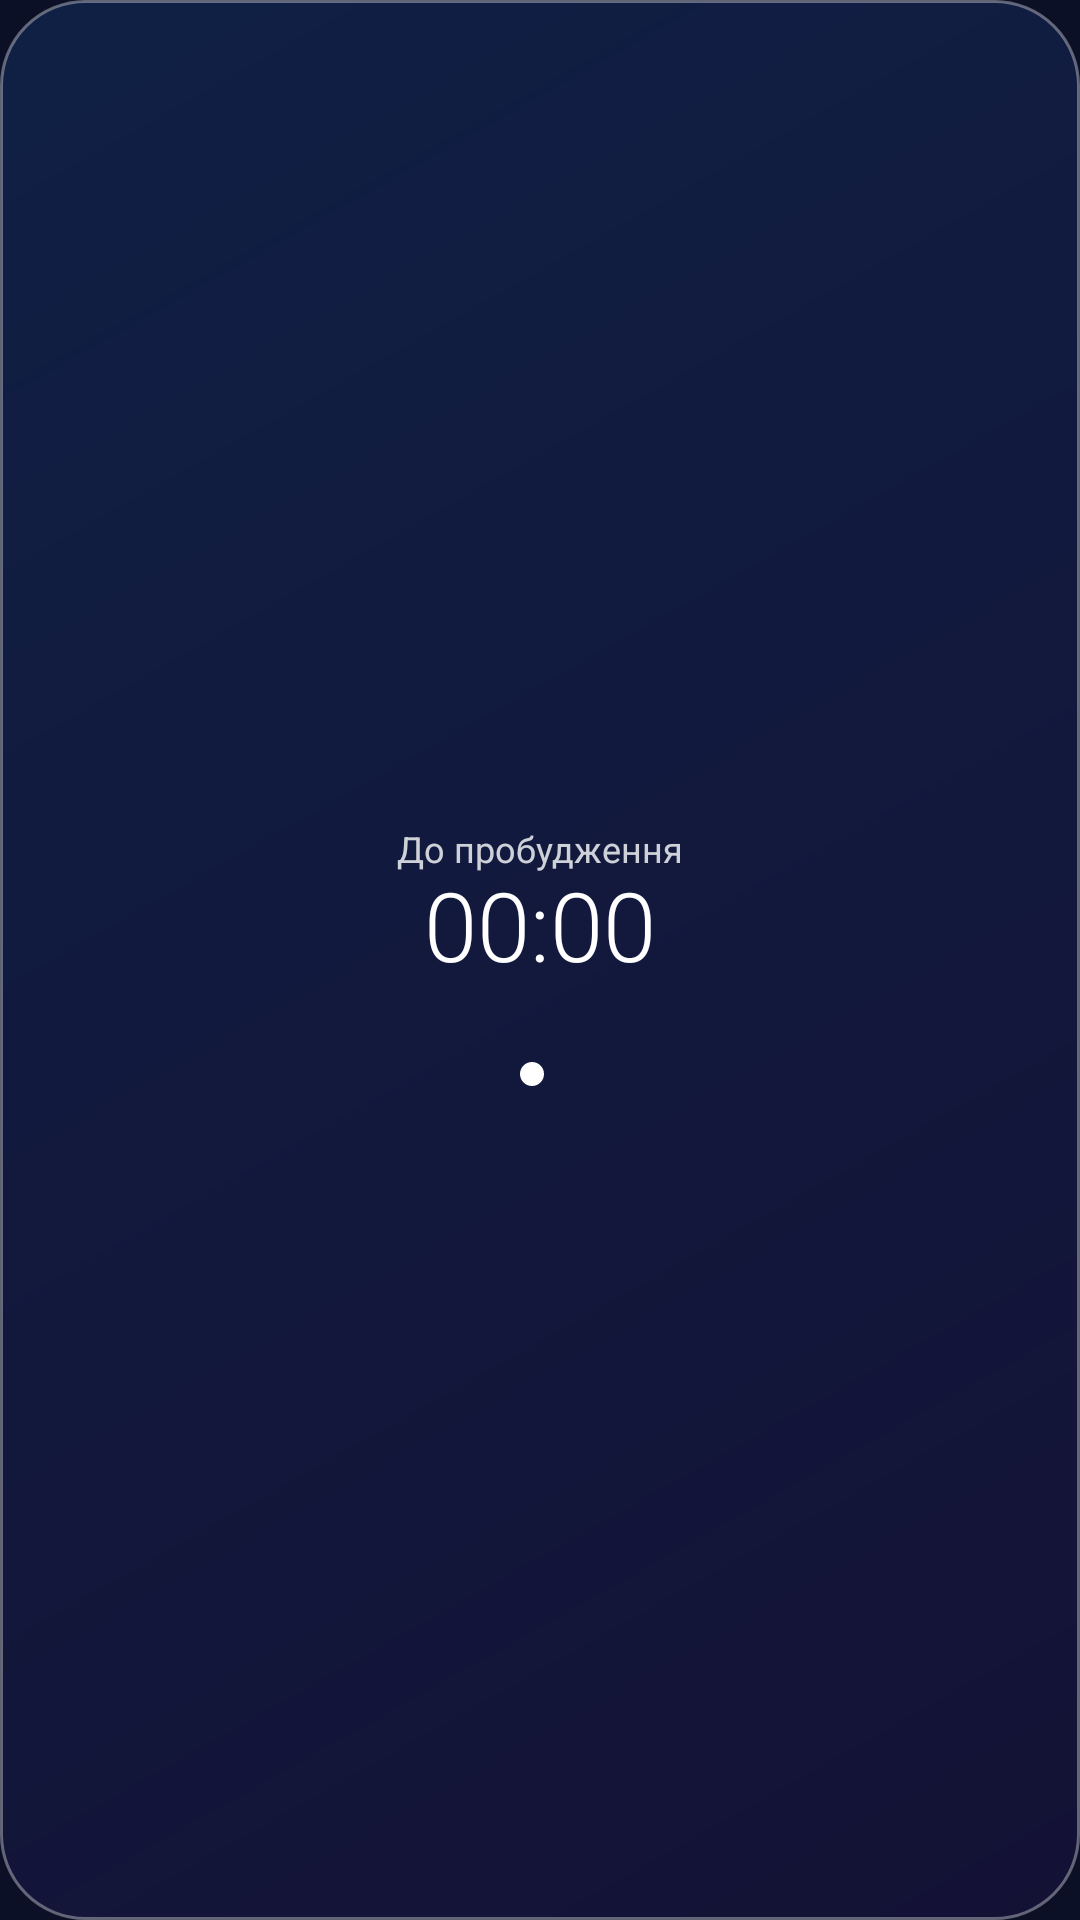

Icon bounding boxes for this 1080 × 1920 phone screenshot, format (x1, y1, x2, y2):
dot: (520, 1062, 544, 1086)
